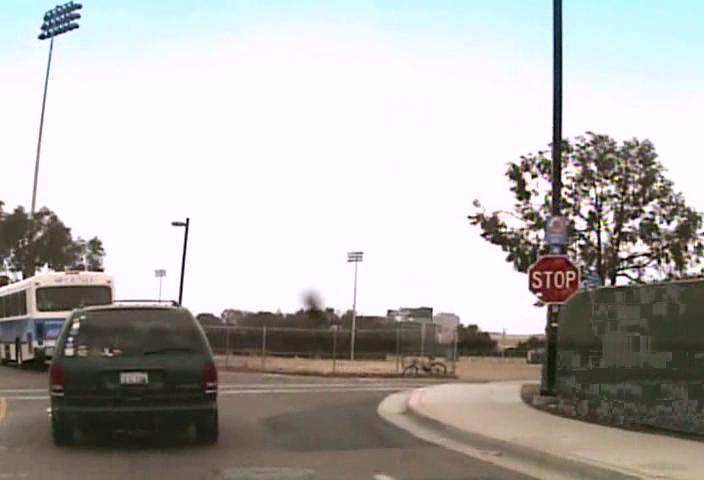stop: (527, 254, 580, 304)
